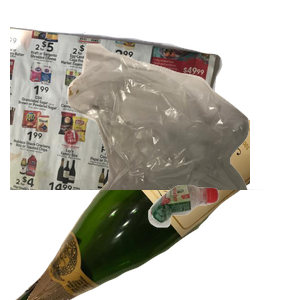glass: (13, 120, 253, 300)
paper: (10, 22, 225, 202)
plastic: (146, 182, 300, 300)
trash: (65, 41, 300, 221)
